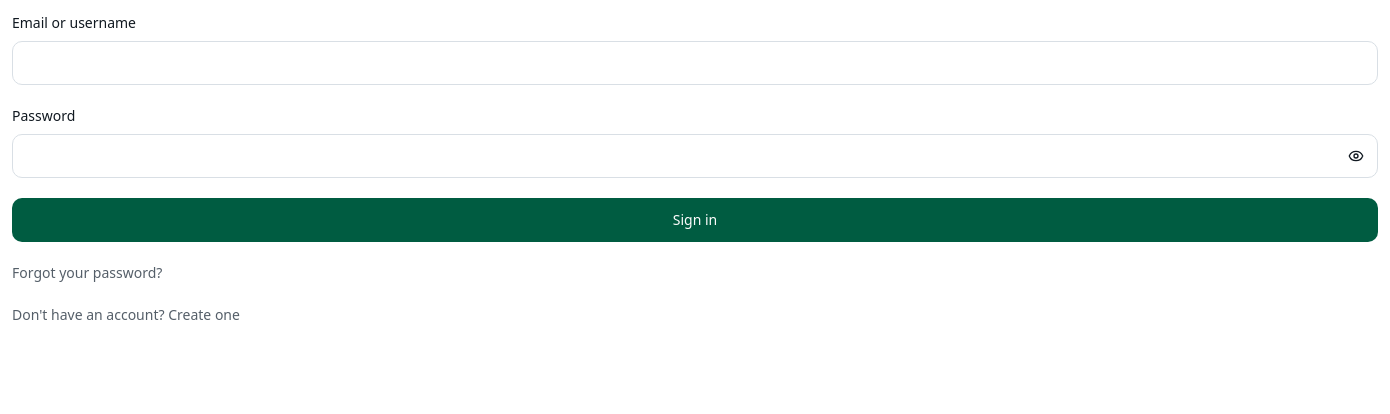
Scenario: LoginForm › loginForm_rateLimited_disablesTheButton
Type "ruben" into the field labelled "Email or username" at (695, 63), box [12, 41, 1378, 85]
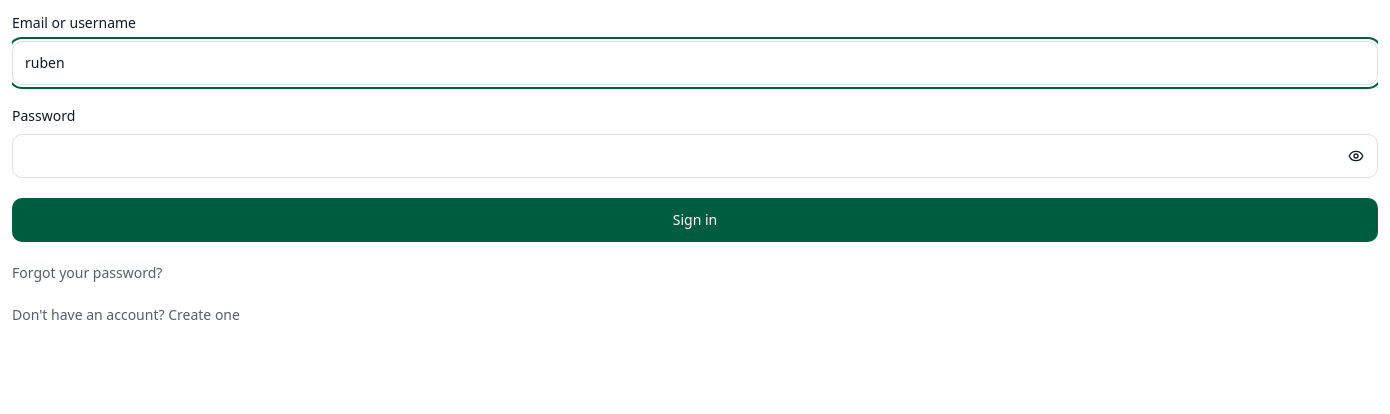
Type "secret1234" into the password field labelled "Password" at (695, 156), box [12, 134, 1378, 178]
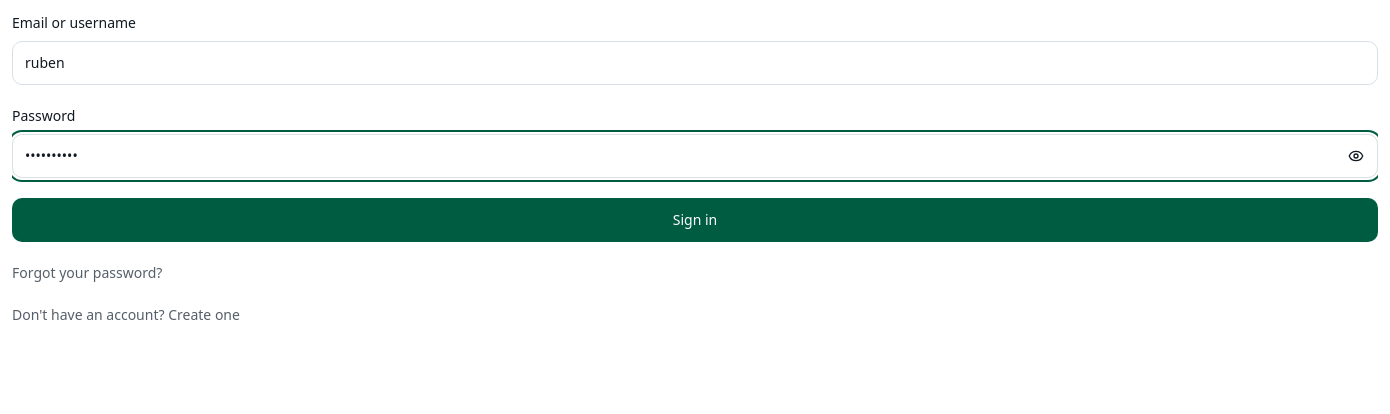
Click the button "Sign in" at (695, 220), box [12, 198, 1378, 242]
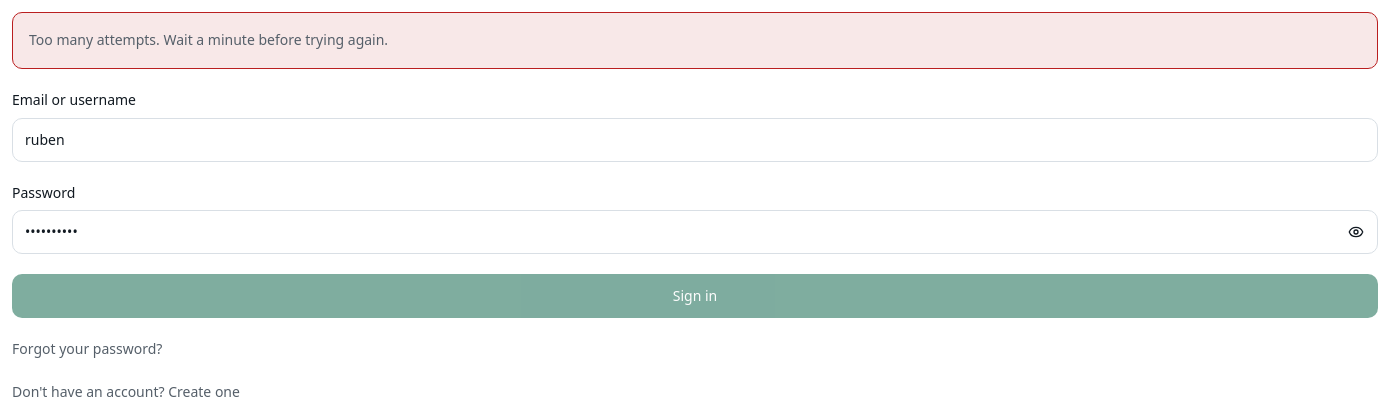
Now the button "Sign in" is disabled, box [12, 274, 1378, 318]
